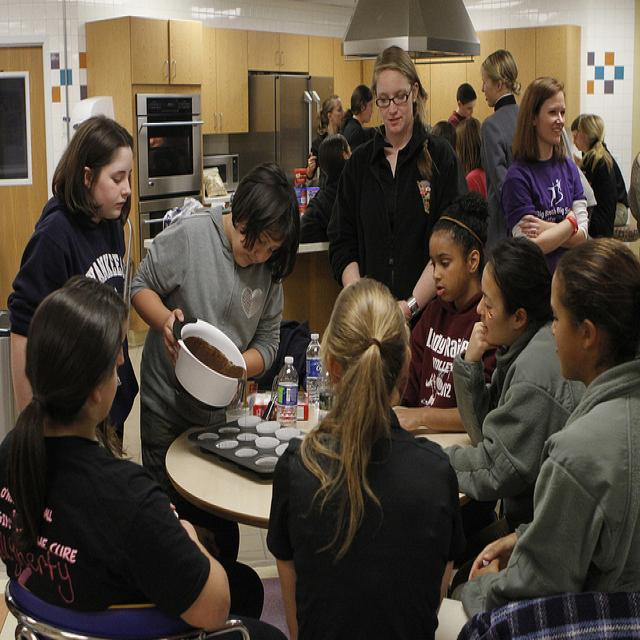chair: (5, 576, 204, 640), (461, 590, 640, 633)
dining table: (165, 332, 475, 530)
